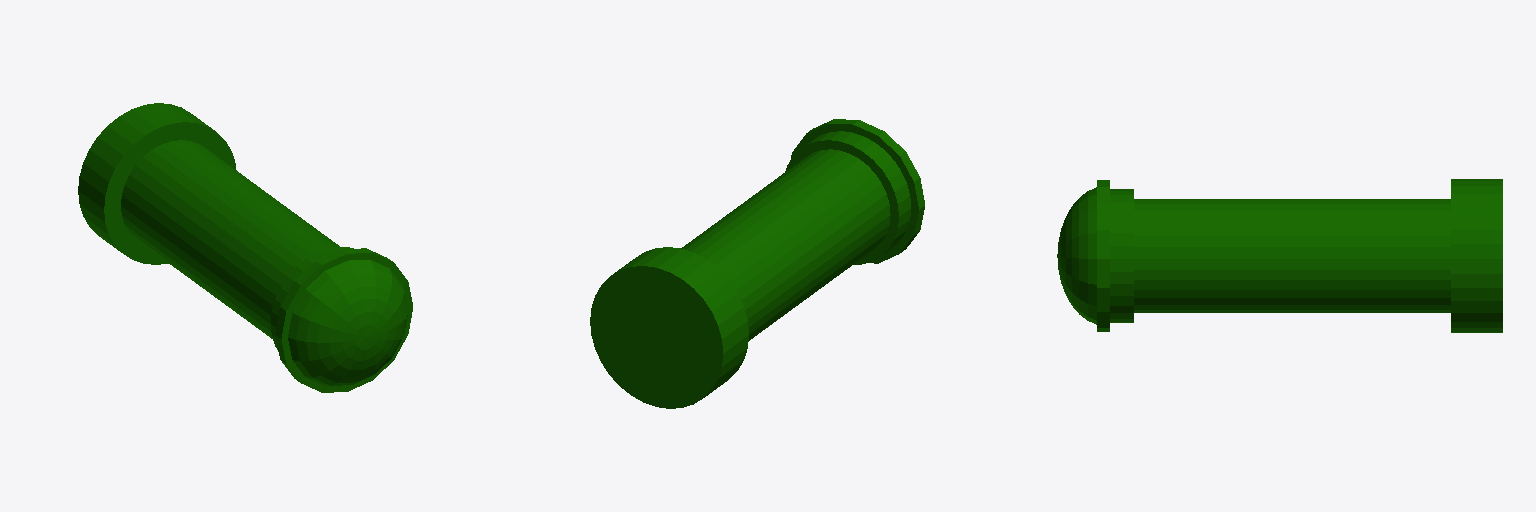
File: bombeoVerde.obj
3 renders of one model, left to right at view 1: azimuth 30°, elevation 25°; view 2: azimuth 150°, elevation 25°; view 3: azimuth 270°, elevation 25°, orthographic.
Visible parts, largest first — view 1: Cylinder.001, Sphere_Sphere.001; view 2: Cylinder.001, Sphere_Sphere.001; view 3: Cylinder.001, Sphere_Sphere.001.
Part boxes in pixels (x1,y1,x2,y2): Cylinder.001: (78,103,353,351); Sphere_Sphere.001: (275,248,412,392); Cylinder.001: (590,131,910,408); Sphere_Sphere.001: (791,119,924,263); Cylinder.001: (1110,179,1502,332); Sphere_Sphere.001: (1057,180,1109,331).
Bounding box in the file's own units: 2.92 × 2.92 × 8.46.